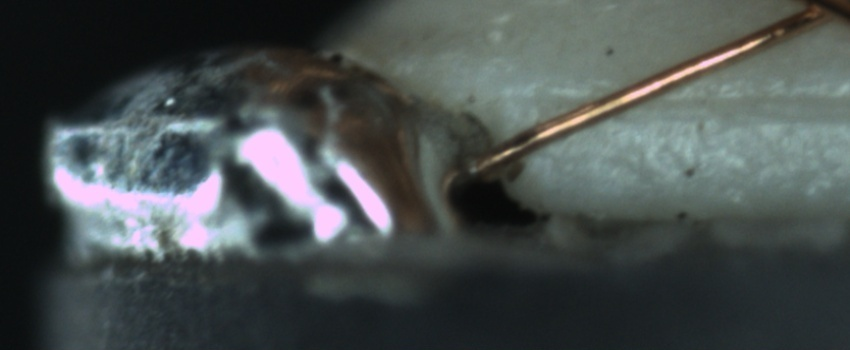CL: (775, 0, 847, 31)
DL: (540, 66, 850, 138)
